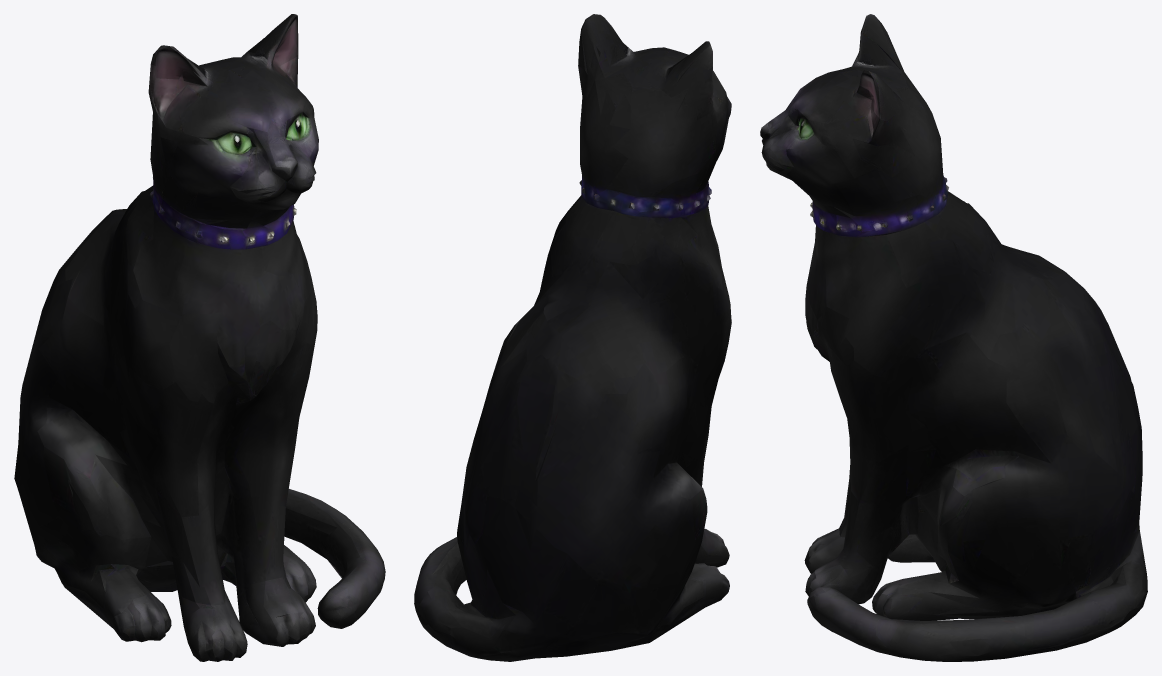
File: cat.glb
The picture shows the model from 3 angles, left to right: view 1: azimuth 30°, elevation 25°; view 2: azimuth 150°, elevation 25°; view 3: azimuth 270°, elevation 25°; orthographic projection. The views are drawn at different scales.
Visible parts, largest first — view 1: Mesh_0; view 2: Mesh_0; view 3: Mesh_0.
Part boxes in pixels (x1,y1,x2,y2): Mesh_0: [14, 14, 385, 661]; Mesh_0: [414, 14, 731, 661]; Mesh_0: [760, 14, 1147, 661].
Bounding box in the file's own units: 0.9866 × 1.9 × 1.23.
Materials: 1 (1 with a texture image).
